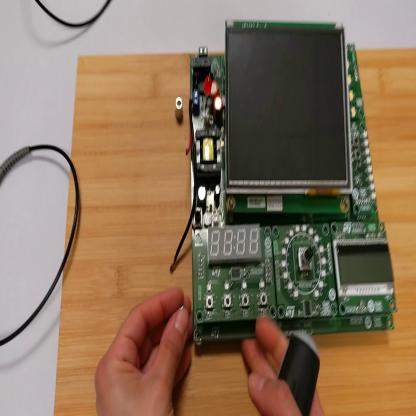hand: (95, 288, 195, 412), (243, 317, 325, 413)
low voltage board: (170, 23, 396, 346)
oscilloscope probe tip: (2, 145, 30, 184)
screwdriver-: (281, 325, 322, 411)
working area: (56, 54, 416, 416)
